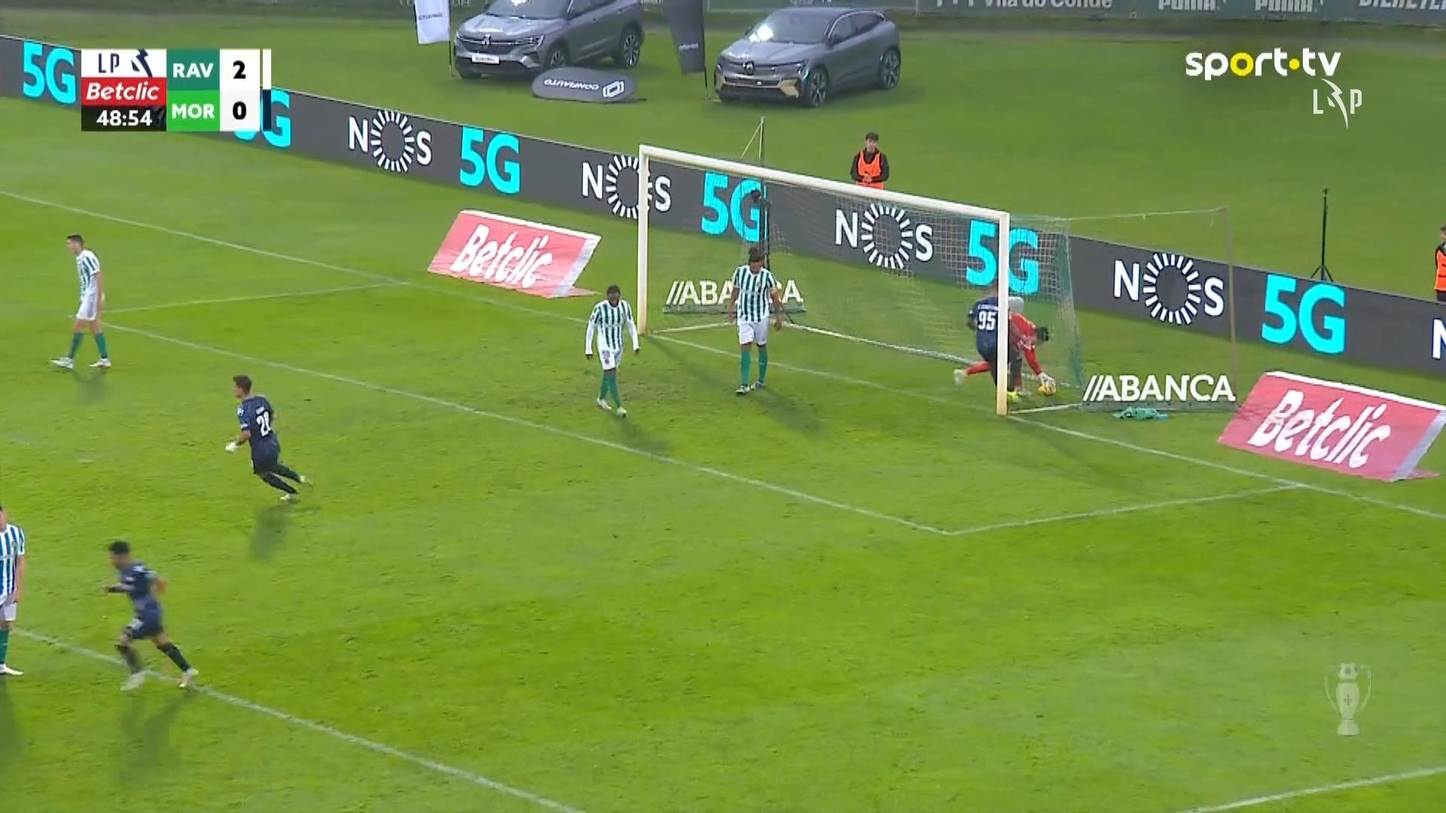ball: (1036, 373, 1056, 395)
goalkeeper: (952, 313, 1055, 398)
player: (101, 538, 200, 692), (224, 373, 313, 503), (49, 232, 112, 370), (726, 246, 784, 394), (583, 284, 641, 418), (965, 284, 1019, 402), (0, 501, 26, 676)
